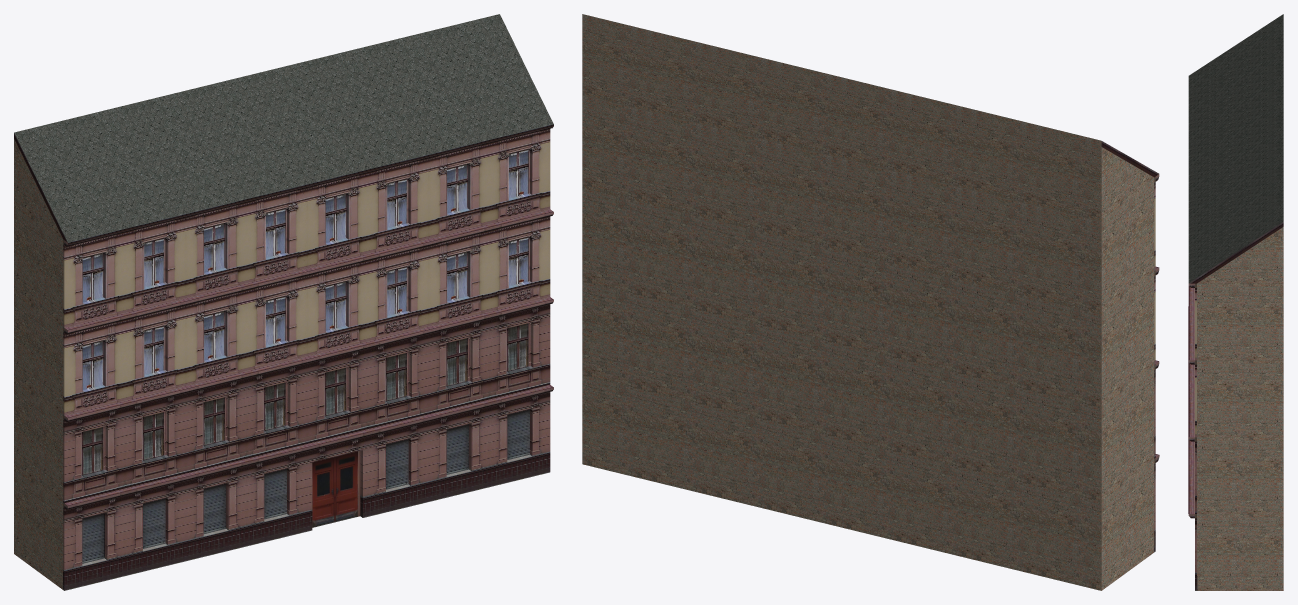
The model's file is PBP1_Building3.fbx.
The picture shows the model from 3 angles, left to right: view 1: azimuth 30°, elevation 25°; view 2: azimuth 150°, elevation 25°; view 3: azimuth 270°, elevation 25°; orthographic projection. The views are drawn at different scales.
Visible parts, largest first — view 1: PBP1_Building3; view 2: PBP1_Building3; view 3: PBP1_Building3.
Part boxes in pixels (box(x1,y1,x2,y2)): PBP1_Building3: box(14, 14, 553, 590); PBP1_Building3: box(582, 14, 1159, 590); PBP1_Building3: box(1188, 14, 1283, 590).
Bounding box in the file's own units: 375 × 1942 × 1609.
